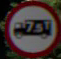Heavy Vehicles: (6, 4, 58, 48)
